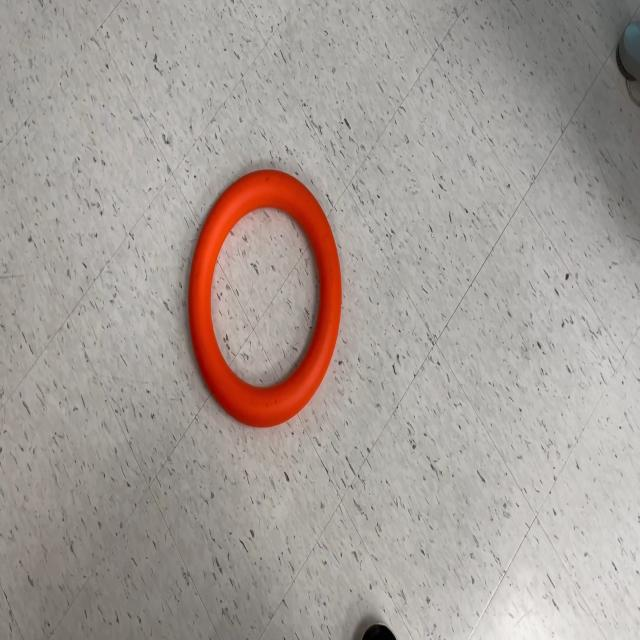note: (188, 167, 343, 427)
